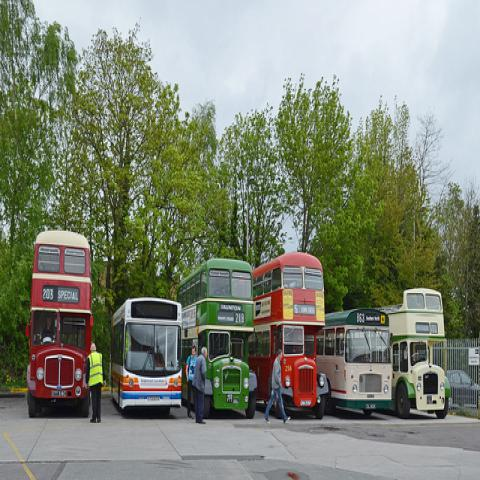bus: (24, 226, 93, 420), (249, 252, 329, 419), (176, 260, 258, 419), (369, 288, 451, 419), (110, 298, 182, 416), (316, 309, 393, 417)
car: (448, 367, 479, 410)
